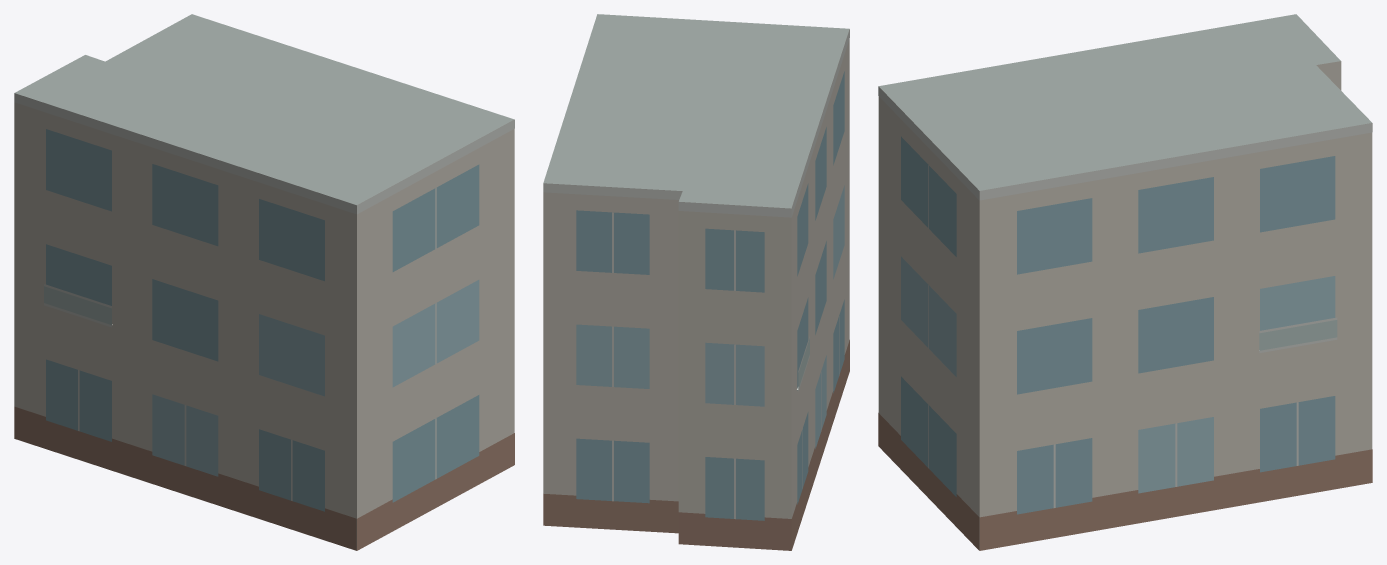
The model's file is survey-upis-32714875.glb.
3 renders of one model, left to right at view 1: azimuth 30°, elevation 25°; view 2: azimuth 150°, elevation 25°; view 3: azimuth 270°, elevation 25°, orthographic. The views are drawn at different scales.
Parts seen in each view (by area): view 1: survey-upis-32714875.tmp; view 2: survey-upis-32714875.tmp; view 3: survey-upis-32714875.tmp.
Boxes of the visible parts, <box> form: survey-upis-32714875.tmp: <box>14,14,514,550</box>; survey-upis-32714875.tmp: <box>543,14,849,550</box>; survey-upis-32714875.tmp: <box>878,14,1372,550</box>.
Size of the model in its own units: 9.66 by 9.15 by 11.39.
